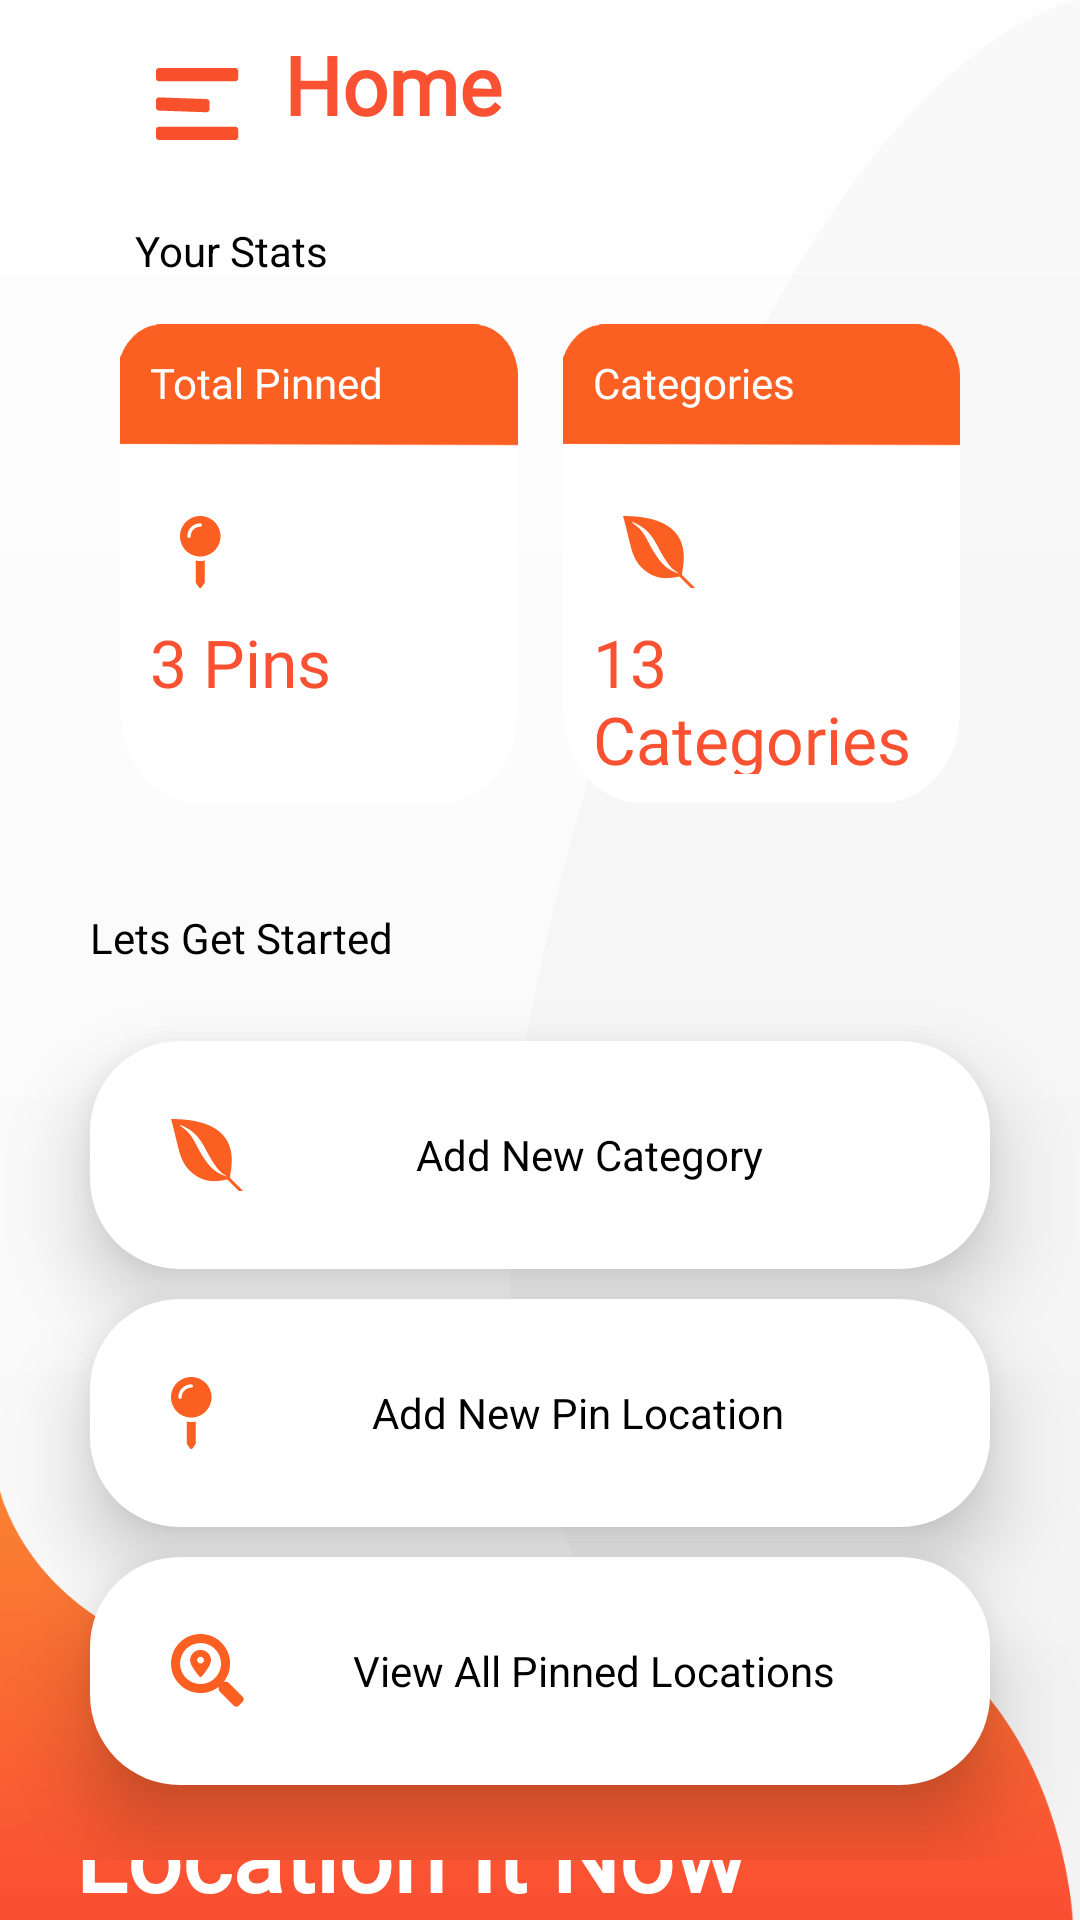

Icons on this 1080 x 1920 Android screen, each with the point to tap as (x=x, y=y):
navigation drawer: (x=197, y=104)
